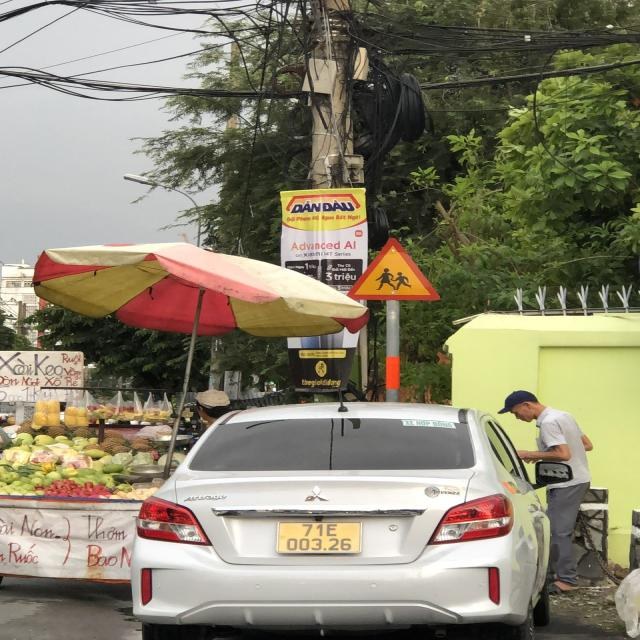Bien bao tre em: (340, 234, 446, 302)
